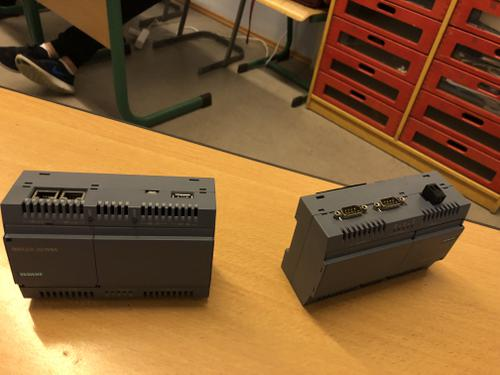device: (1, 170, 217, 299), (281, 171, 472, 307)
